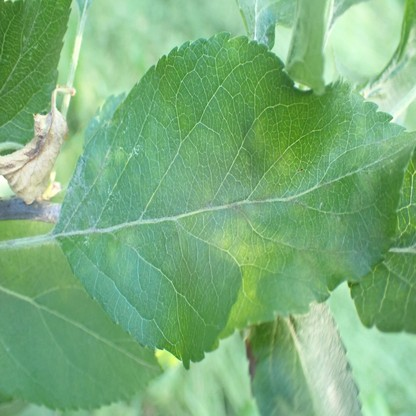powdery_mildew: (297, 305, 357, 416)
scab: (201, 195, 266, 215), (105, 226, 136, 257), (92, 151, 111, 190), (298, 249, 318, 277), (326, 252, 346, 272), (359, 174, 371, 192), (114, 151, 126, 165)
